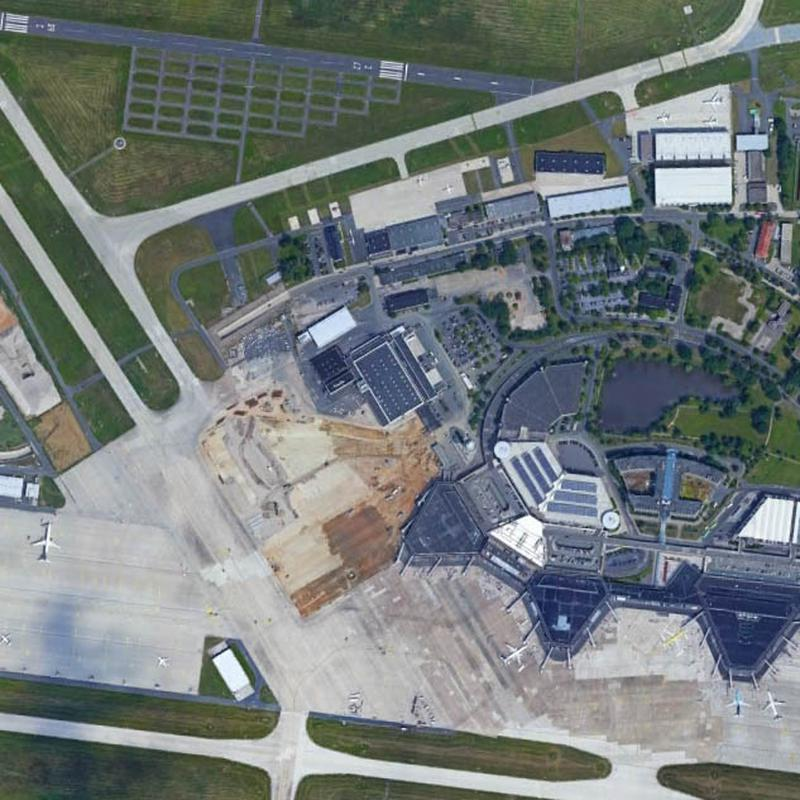airplane: (29, 521, 62, 565), (762, 689, 787, 723), (657, 627, 686, 656), (500, 641, 528, 670), (728, 690, 751, 718), (701, 92, 725, 111), (703, 116, 719, 130), (157, 656, 173, 670), (656, 112, 672, 125), (442, 183, 456, 195), (1, 633, 13, 647)
